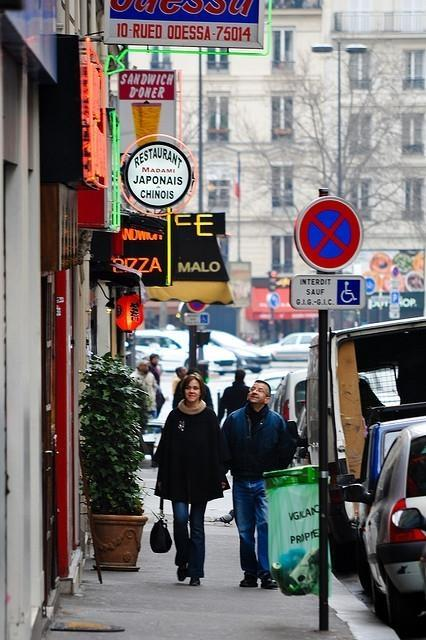car: (342, 422, 426, 636), (338, 416, 426, 488), (136, 328, 236, 376), (202, 328, 272, 374), (269, 368, 307, 424), (261, 332, 319, 362)
truck: (331, 318, 426, 552)
